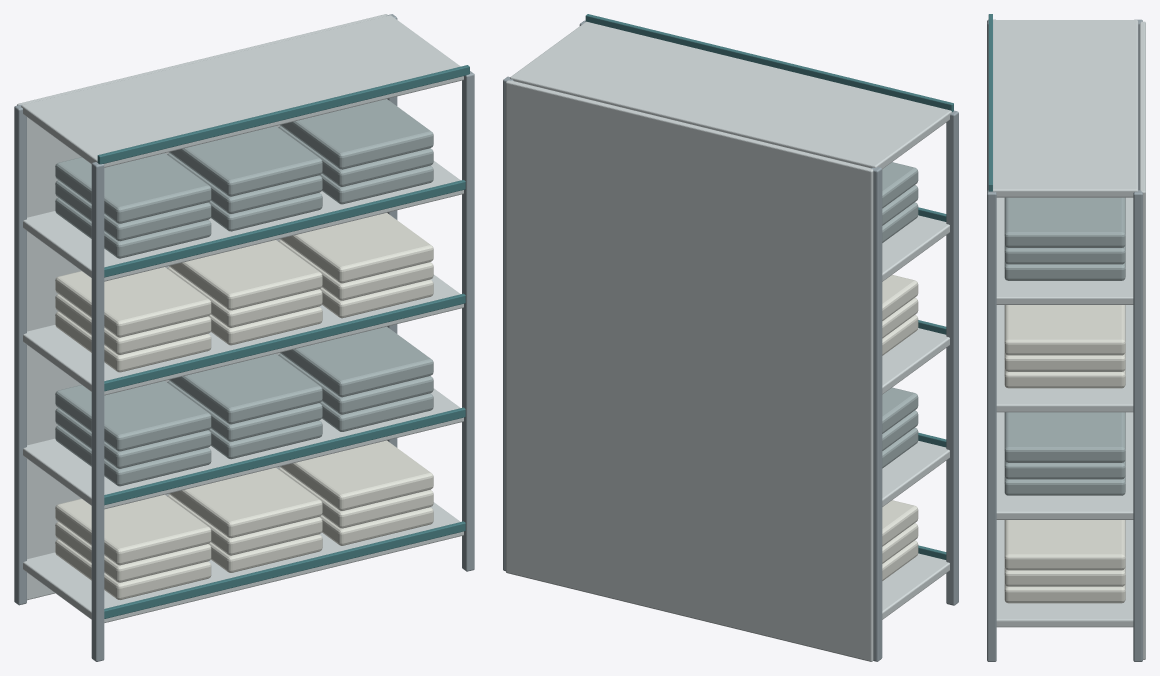
The model's file is RD_LinenRack.fbx.
3 renders of one model, left to right at view 1: azimuth 30°, elevation 25°; view 2: azimuth 150°, elevation 25°; view 3: azimuth 270°, elevation 25°, orthographic. The views are drawn at different scales.
Parts seen in each view (by area): view 1: RD_LinenRack; view 2: RD_LinenRack; view 3: RD_LinenRack.
Part boxes in pixels (x1,y1,x2,y2): RD_LinenRack: [14, 14, 474, 661]; RD_LinenRack: [503, 14, 958, 661]; RD_LinenRack: [987, 14, 1145, 661].
Size of the model in its own units: 164 by 208 by 62.95.
